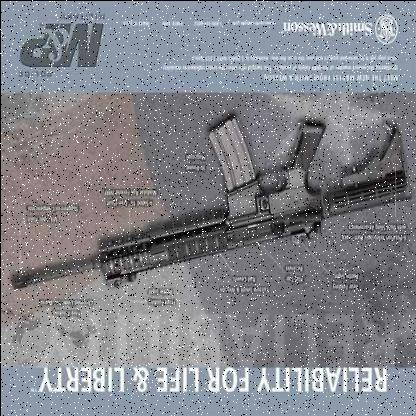rifle: (19, 120, 416, 317)
